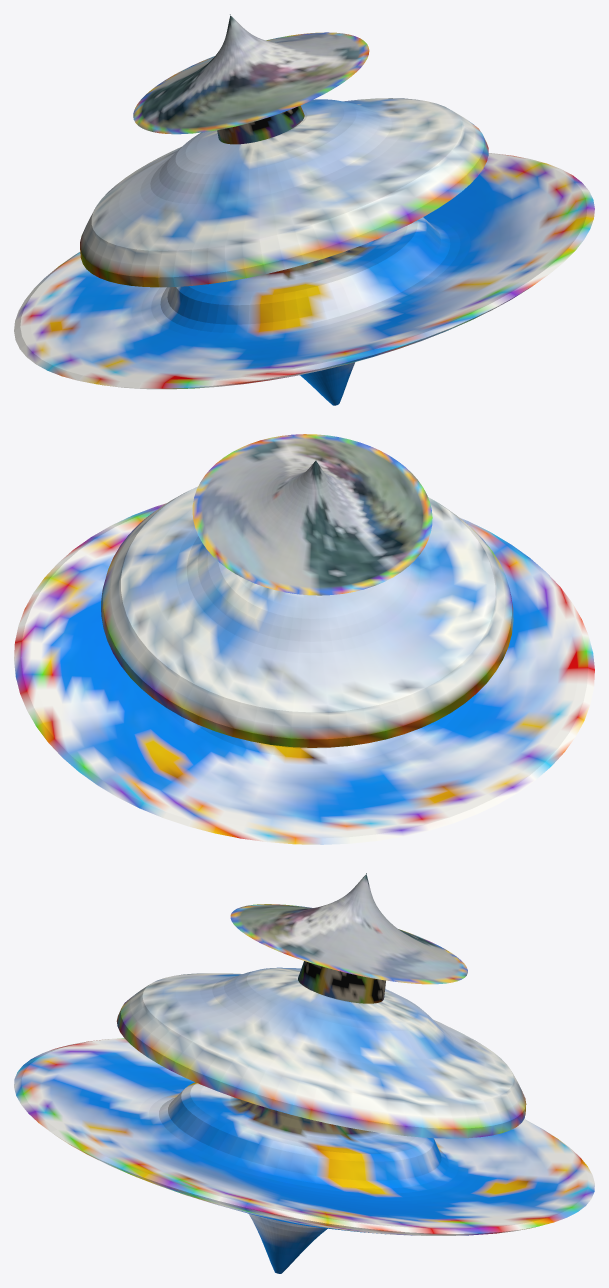
The model's file is trythisshit.glb.
3 renders of one model, top to bottom at view 1: azimuth 30°, elevation 25°; view 2: azimuth 150°, elevation 25°; view 3: azimuth 270°, elevation 25°, orthographic. The views are drawn at different scales.
Visible parts, largest first — view 1: Lathe 4, Lathe 3, Lathe (×2); view 2: Lathe 4, Lathe 3, Lathe; view 3: Lathe 4, Lathe 3, Lathe (×2).
Part boxes in pixels (x1,y1,x2,y2): Lathe 4: (14, 153, 594, 405); Lathe 3: (80, 98, 488, 287); Lathe (×2): (133, 14, 369, 144); Lathe 4: (14, 503, 594, 844); Lathe 3: (101, 486, 513, 747); Lathe: (192, 434, 432, 595); Lathe 4: (14, 1038, 594, 1273); Lathe 3: (116, 967, 526, 1138); Lathe (×2): (230, 873, 467, 1003).
Size of the model in its own units: 0.3792 by 0.2655 by 0.3771.
